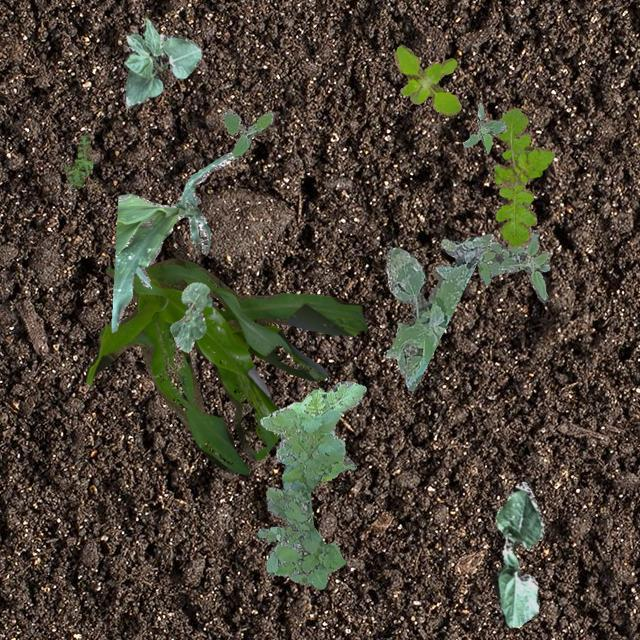crop: (85, 257, 366, 473), (110, 150, 238, 332), (121, 16, 202, 108), (492, 481, 542, 628), (168, 282, 210, 352)
weed: (256, 380, 366, 588), (384, 236, 486, 390), (492, 106, 554, 246), (476, 228, 550, 302), (392, 44, 460, 114), (222, 108, 272, 156), (462, 102, 506, 154), (64, 132, 92, 188)
